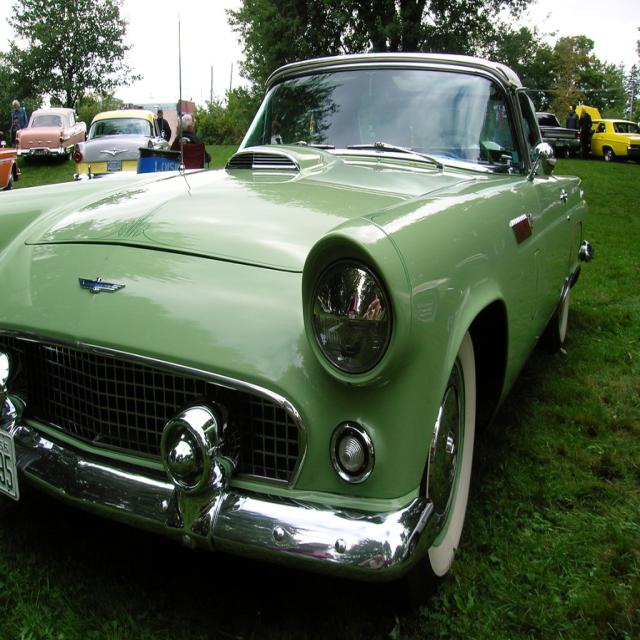Passenger Car: (2, 53, 592, 610)
